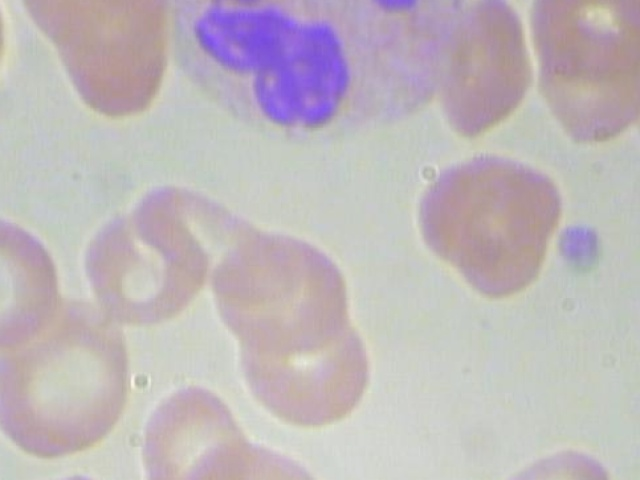Platelets: (547, 220, 613, 287)
RBC: (205, 212, 366, 355), (403, 155, 578, 272), (437, 0, 531, 142), (135, 377, 258, 480), (0, 206, 64, 350), (527, 0, 640, 80), (0, 343, 10, 473), (0, 0, 12, 107), (464, 382, 466, 384)
WBC: (140, 0, 463, 152)
